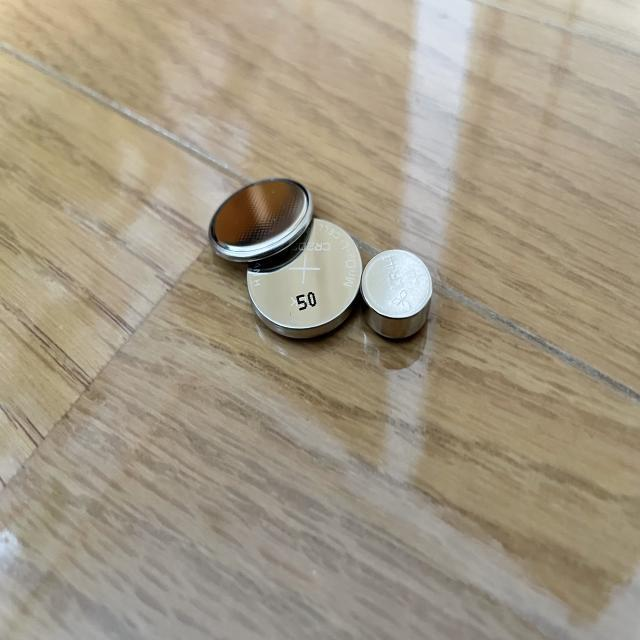COIN: (244, 217, 364, 337), (207, 176, 316, 269), (362, 245, 435, 342)
